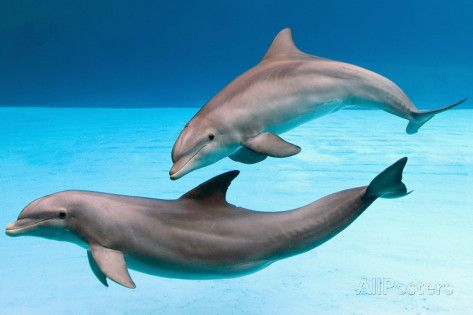dolphin: (13, 165, 433, 302), (142, 21, 470, 173)
